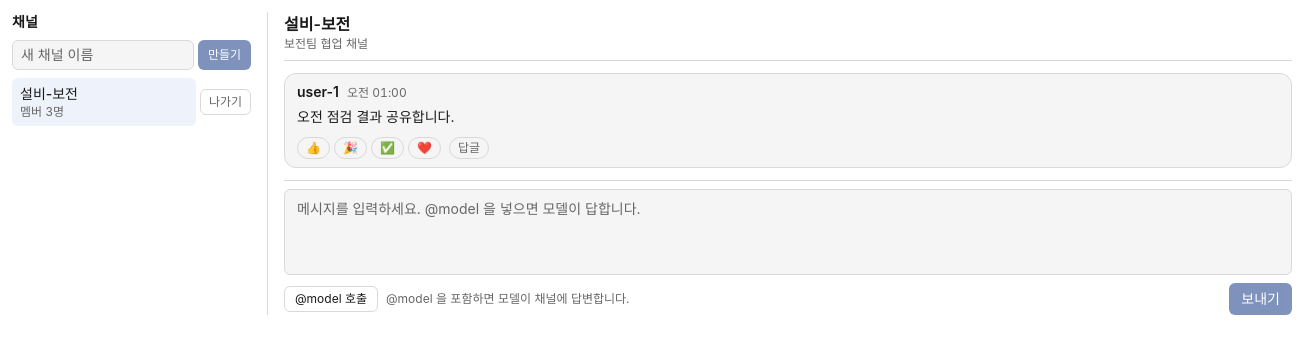
Test case: ChannelsWorkspace › 리액션 실패는 롤백되고 오류가 드러난다
The image size is (1304, 364).
expect the text "오전 점검 결과 공유합니다." is shown: met, box top-left (297, 108), bottom-right (454, 125)
Step 1. Click the button "👍" → (314, 148), box top-left (297, 137), bottom-right (330, 159)
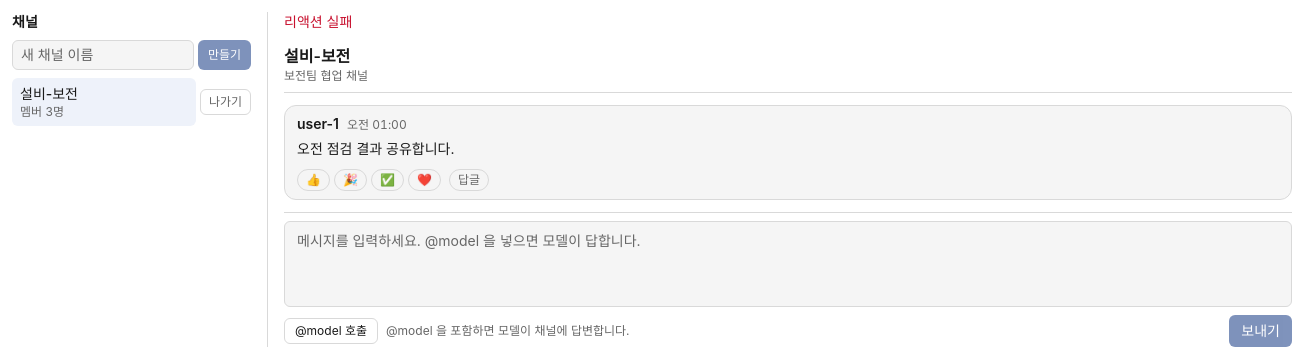
expect the message reads "리액션 실패": met, box top-left (284, 13), bottom-right (352, 30)
